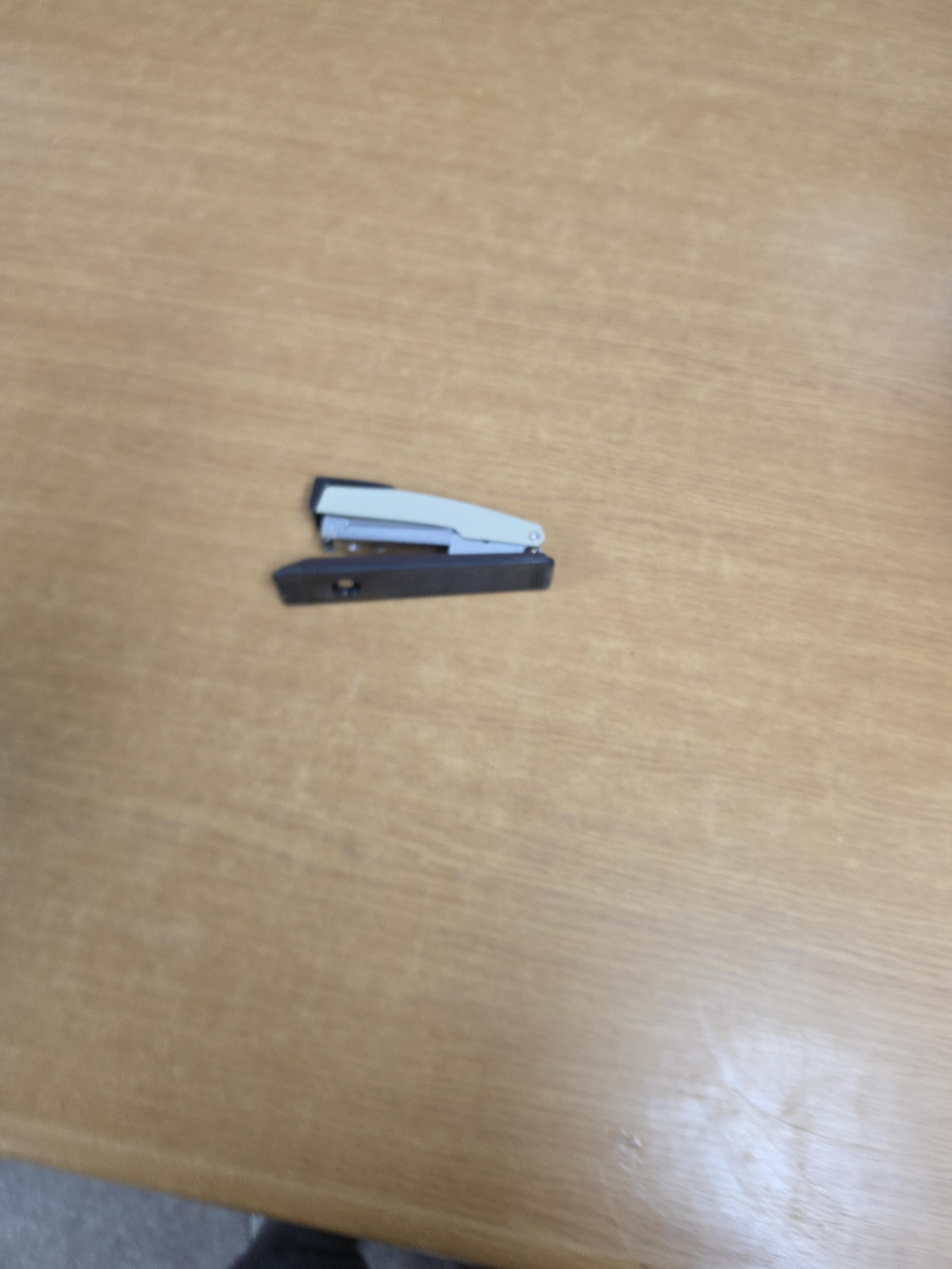stapler: (272, 475, 554, 607)
